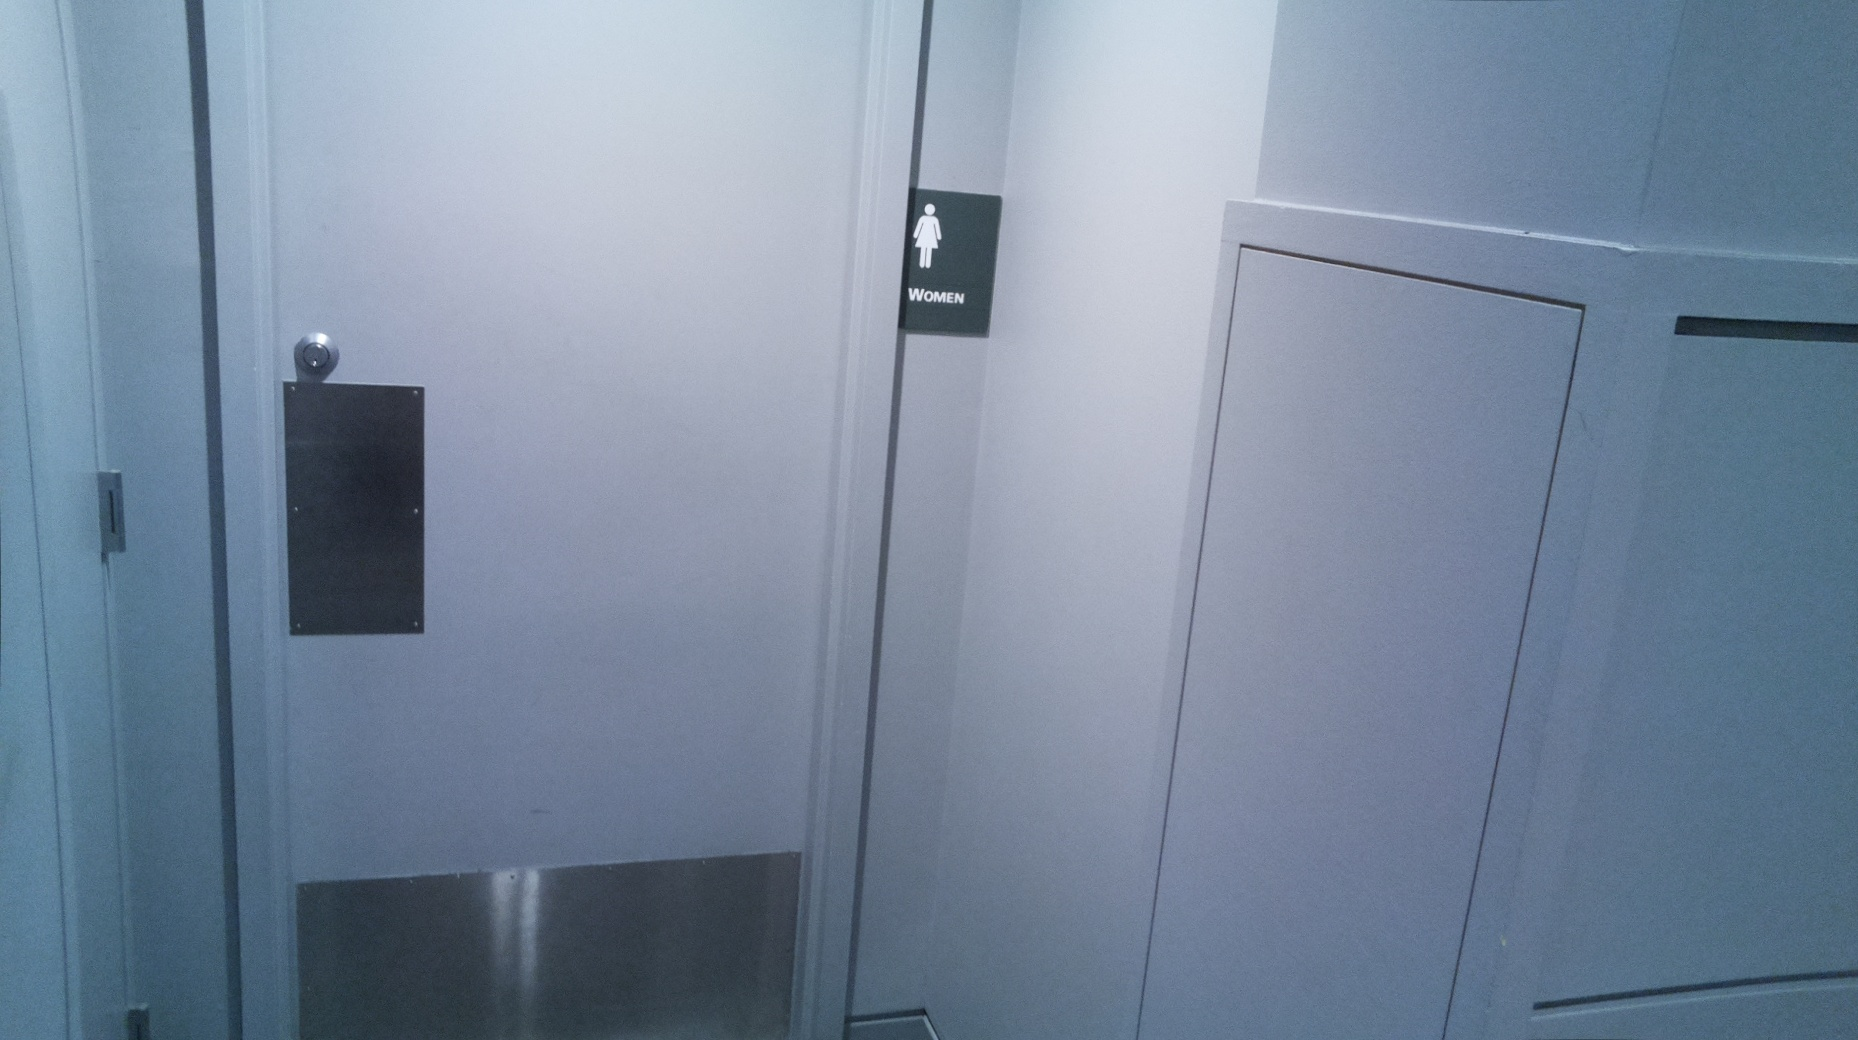bathroom sign: (892, 180, 1007, 345)
